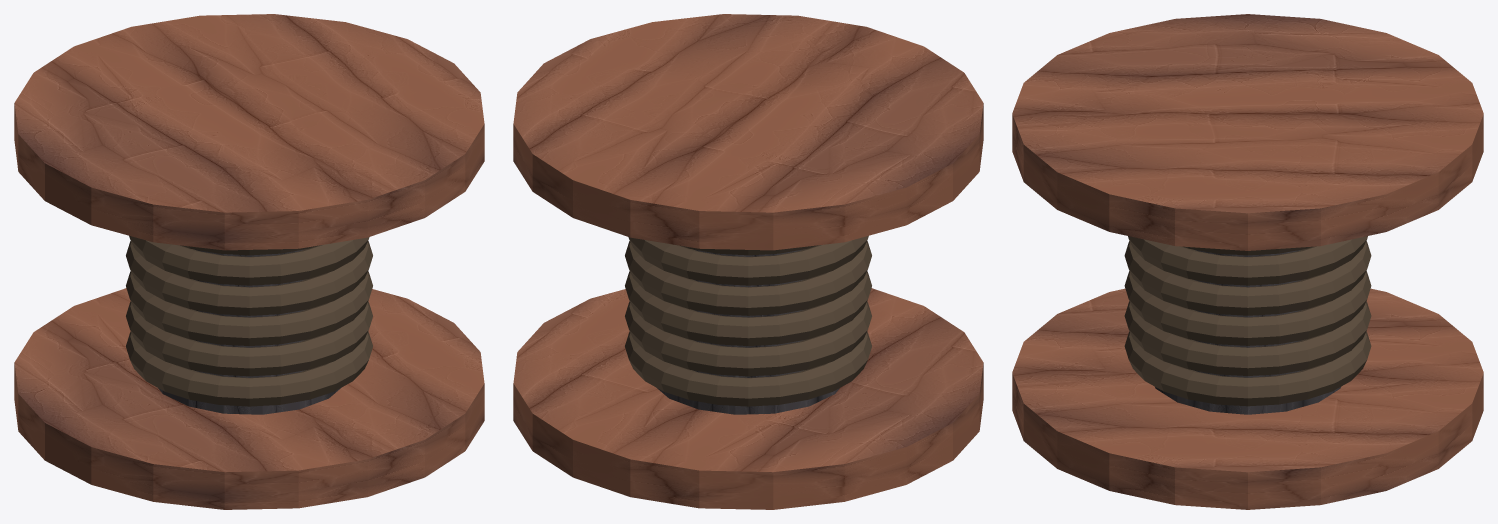
The model's file is Cable_Spool_Barren.glb.
3 renders of one model, left to right at view 1: azimuth 30°, elevation 25°; view 2: azimuth 150°, elevation 25°; view 3: azimuth 270°, elevation 25°, orthographic.
Visible parts, largest first — view 1: Structure; view 2: Structure; view 3: Structure.
Part boxes in pixels (left/top/right/bottom): Structure: left=14, top=14, right=484, bottom=509; Structure: left=513, top=14, right=983, bottom=509; Structure: left=1012, top=14, right=1483, bottom=509.
Bounding box in the file's own units: 1.7 × 1.18 × 1.7.
Materials: 3 (2 with a texture image).
